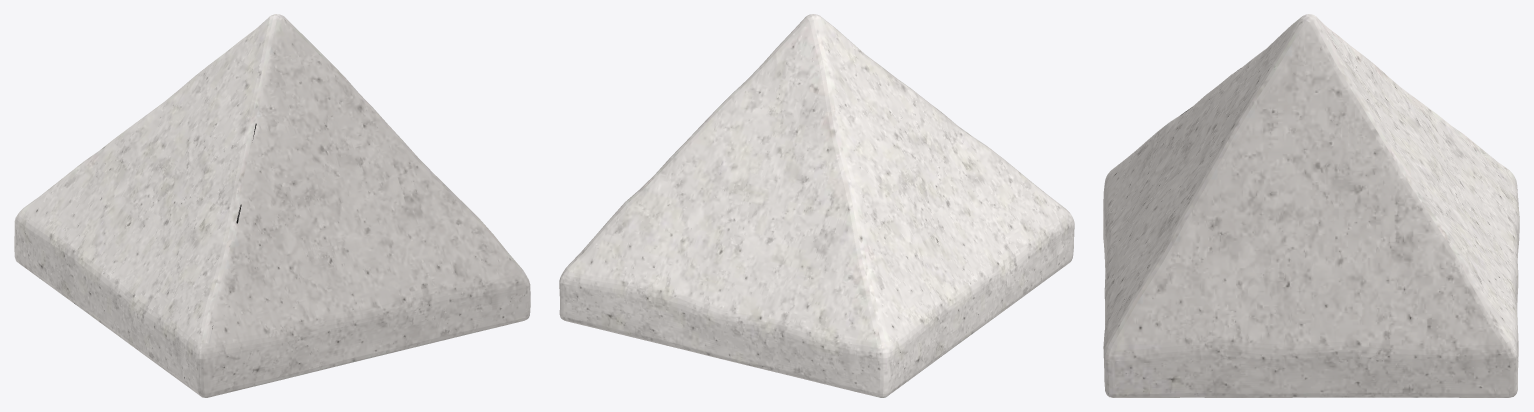
File: tak-capstone-white.glb
3 views of the same model, side by side, from view 1: azimuth 30°, elevation 25°; view 2: azimuth 150°, elevation 25°; view 3: azimuth 270°, elevation 25° (orthographic). The views are drawn at different scales.
Visible parts, largest first — view 1: tak-capstone-white; view 2: tak-capstone-white; view 3: tak-capstone-white.
Boxes of the visible parts, bbox=[...] form: tak-capstone-white: bbox=[14, 14, 530, 397]; tak-capstone-white: bbox=[559, 14, 1074, 397]; tak-capstone-white: bbox=[1103, 14, 1519, 397].
Bounding box in the file's own units: 0.0283 × 0.0224 × 0.0283.
Materials: 1 (1 with a texture image).
